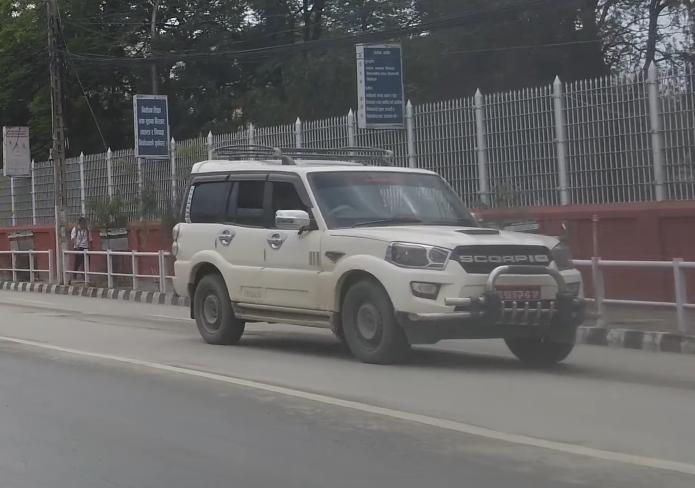SUV: (169, 141, 584, 367)
